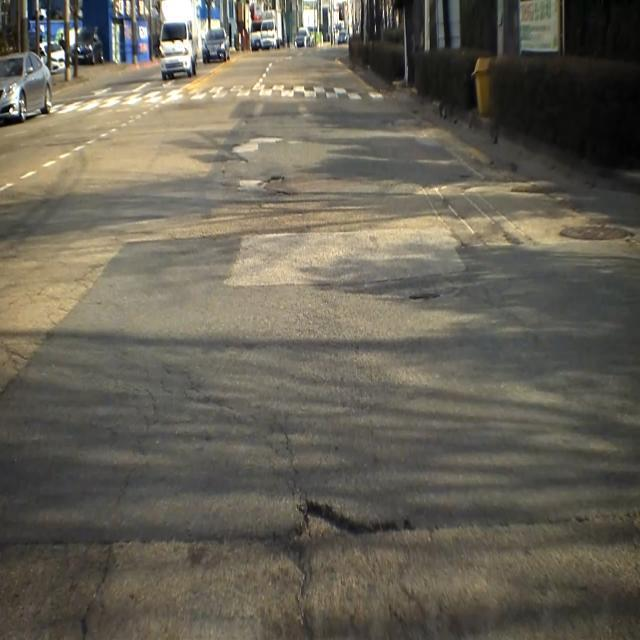pothole: (274, 490, 416, 560), (257, 170, 295, 202)
